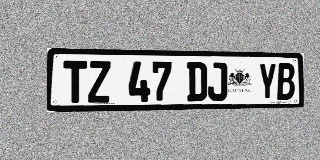4: (128, 61, 150, 102)
7: (151, 62, 172, 102)
B: (277, 63, 295, 100)
D: (187, 62, 207, 101)
J: (208, 62, 227, 101)
T: (64, 61, 87, 103)
Y: (258, 63, 276, 100)
Z: (88, 61, 111, 103)
